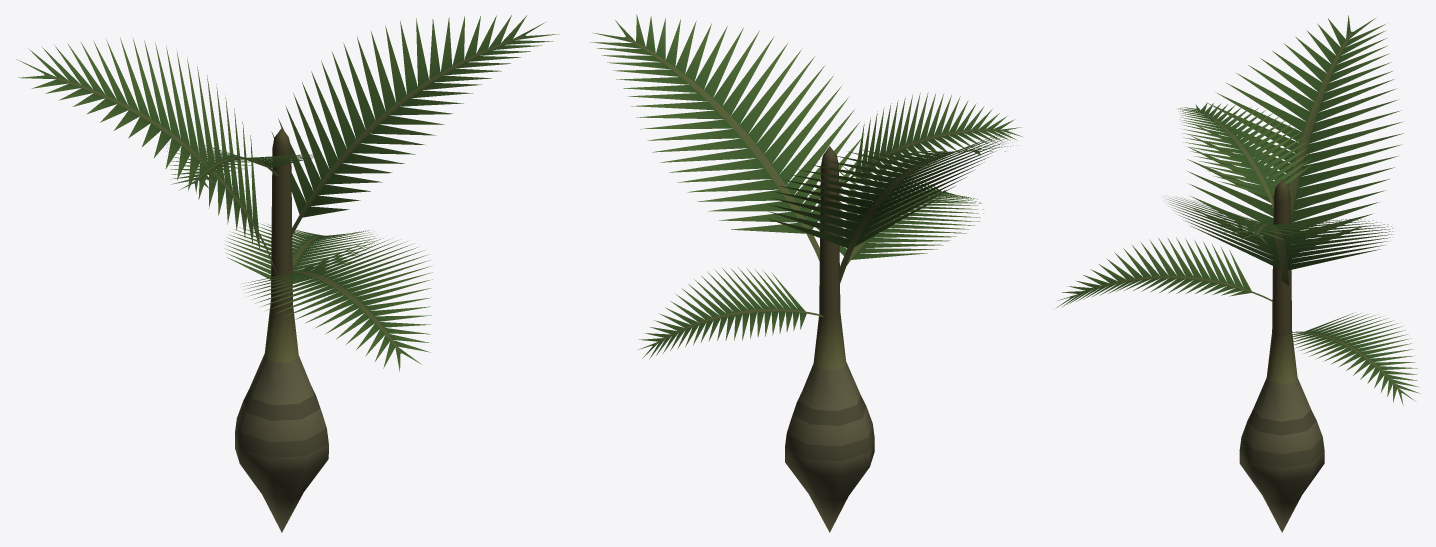
The model's file is trees-palms-ferns-bottle-palm_v1.glb.
3 views of the same model, side by side, from view 1: azimuth 30°, elevation 25°; view 2: azimuth 150°, elevation 25°; view 3: azimuth 270°, elevation 25° (orthographic). The views are drawn at different scales.
Parts seen in each view (by area): view 1: Bottle Palm_v1; view 2: Bottle Palm_v1; view 3: Bottle Palm_v1.
Boxes of the visible parts, x1,y1,x2,y2 form: Bottle Palm_v1: [16, 15, 558, 532]; Bottle Palm_v1: [590, 14, 1023, 532]; Bottle Palm_v1: [1056, 15, 1419, 532].
Bounding box in the file's own units: 4 × 3.85 × 3.01.
